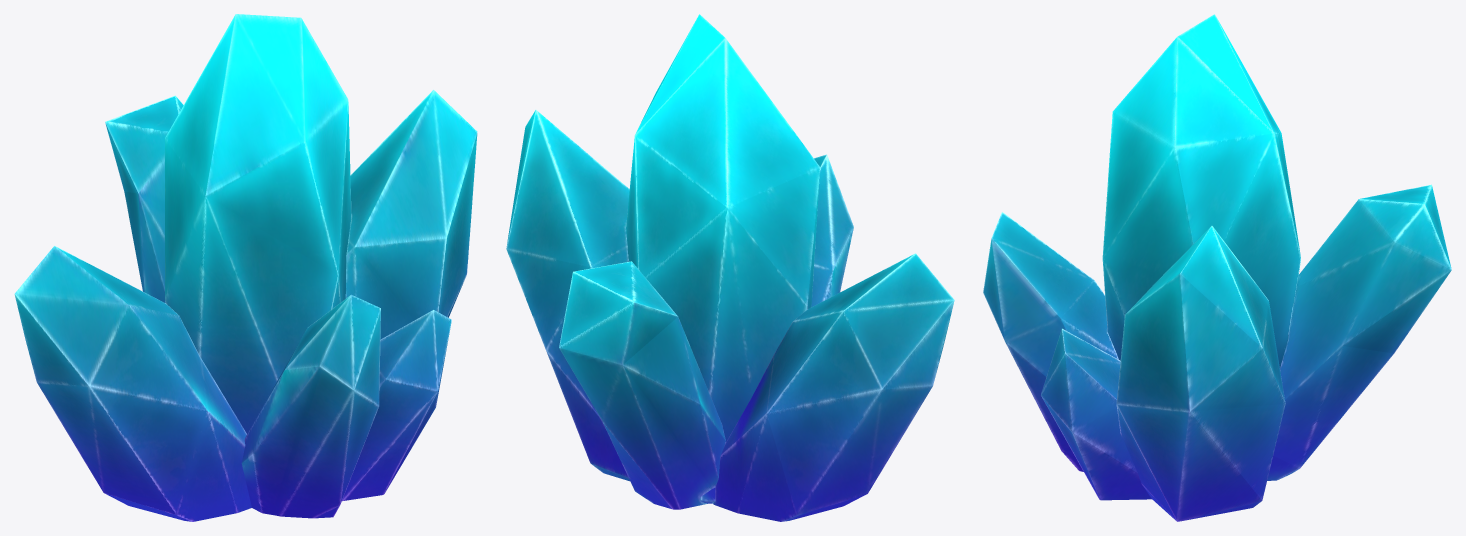
The picture shows the model from 3 angles, left to right: view 1: azimuth 30°, elevation 25°; view 2: azimuth 150°, elevation 25°; view 3: azimuth 270°, elevation 25°; orthographic projection. The views are drawn at different scales.
Visible parts, largest first — view 1: crystals; view 2: crystals; view 3: crystals.
Part boxes in pixels (x1=…): crystals: x1=14, y1=14, x2=477, y2=521; crystals: x1=506, y1=14, x2=954, y2=521; crystals: x1=983, y1=14, x2=1451, y2=521.
Bounding box in the file's own units: 505 × 490 × 469.
1 material, 1 textured.
